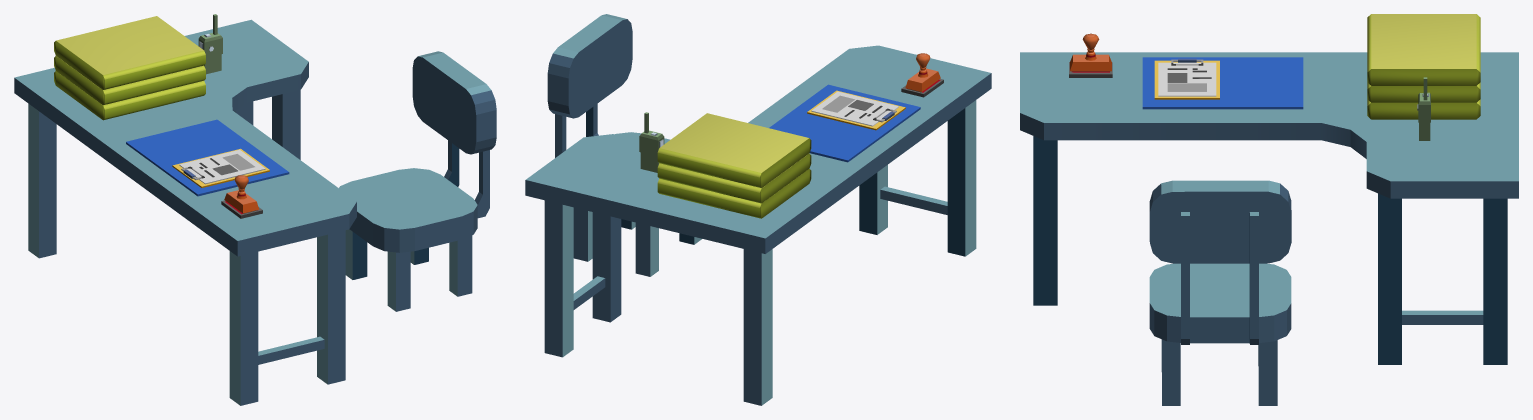
The model's file is Checkout_Desk.fbx.
3 views of the same model, side by side, from view 1: azimuth 30°, elevation 25°; view 2: azimuth 150°, elevation 25°; view 3: azimuth 270°, elevation 25° (orthographic). The views are drawn at different scales.
Parts seen in each view (by area): view 1: desk, office_chair_prisoner, uniform3, file, office_table6, wktk, stamp, office_table5, office_table2; view 2: desk, uniform3, office_chair_prisoner, file, office_table6, wktk, stamp, office_table5, office_table2; view 3: desk, office_chair_prisoner, uniform3, file, office_table6, stamp, office_table5, wktk, office_table2.
Boxes of the visible parts, x1,y1,x2,y2 form: desk: [14, 19, 356, 405]; office_chair_prisoner: [339, 51, 496, 311]; uniform3: [54, 16, 205, 120]; file: [126, 119, 289, 196]; office_table6: [179, 149, 265, 184]; wktk: [198, 14, 222, 74]; stamp: [224, 175, 259, 213]; office_table5: [199, 154, 254, 177]; office_table2: [172, 148, 269, 187]; desk: [525, 45, 991, 405]; uniform3: [657, 113, 811, 218]; office_chair_prisoner: [547, 14, 702, 276]; file: [769, 84, 920, 162]; office_table6: [811, 91, 898, 126]; wktk: [639, 112, 664, 172]; stamp: [905, 53, 940, 92]; office_table5: [822, 95, 882, 118]; office_table2: [807, 90, 905, 130]; desk: [1020, 52, 1518, 364]; office_chair_prisoner: [1149, 180, 1291, 405]; uniform3: [1367, 14, 1480, 119]; file: [1142, 57, 1303, 109]; office_table6: [1158, 62, 1216, 96]; stamp: [1070, 33, 1111, 71]; office_table5: [1167, 68, 1211, 91]; wktk: [1417, 77, 1430, 140]; office_table2: [1154, 60, 1219, 99].
Size of the model in its own units: 189 by 126 by 225.
